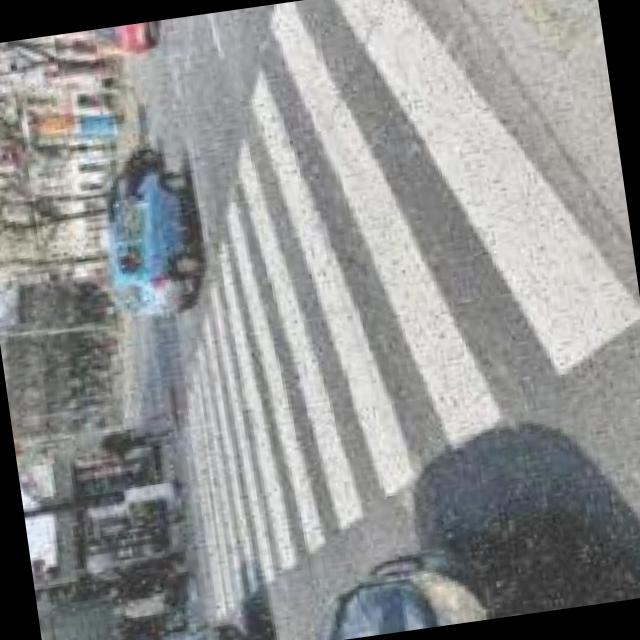zebra: (121, 0, 640, 621)
